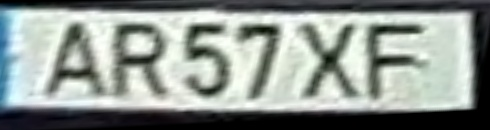5: (182, 21, 237, 101)
7: (235, 22, 288, 104)
A: (34, 19, 109, 101)
F: (364, 22, 432, 104)
R: (107, 22, 173, 102)
X: (293, 23, 364, 103)
